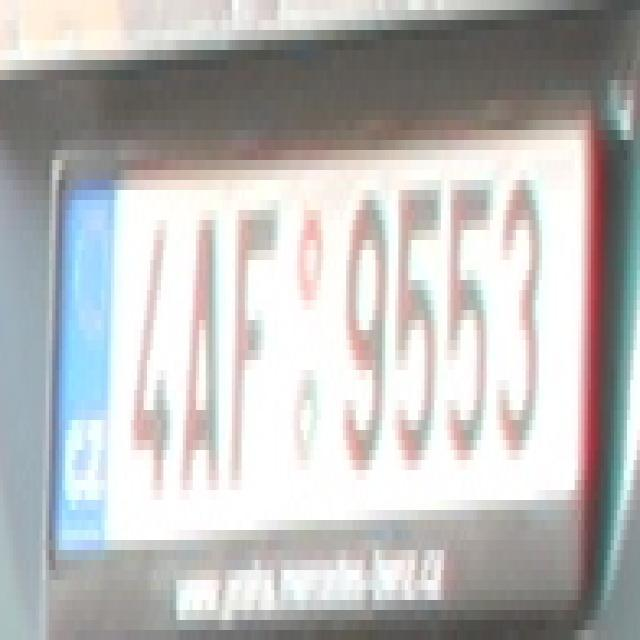3: (493, 150, 536, 440)
4: (127, 210, 173, 500)
5: (392, 180, 441, 480), (444, 170, 493, 460)
9: (339, 190, 392, 470)
A: (177, 210, 216, 500)
F: (228, 190, 278, 480)
